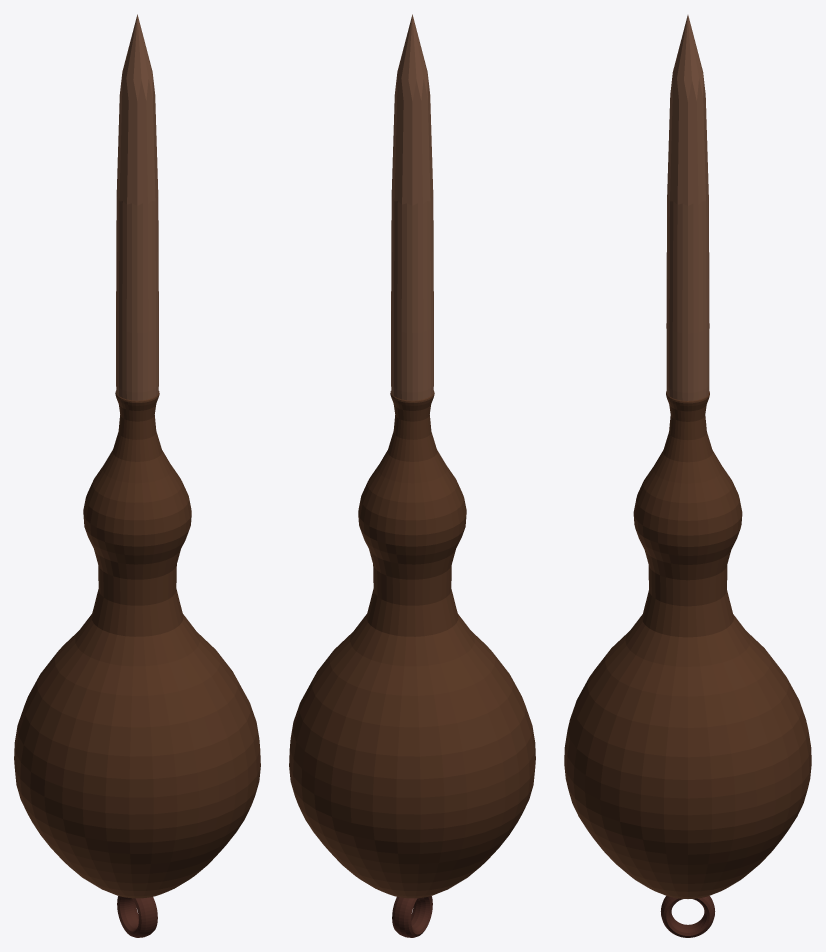
File: Wand 601.glb
The picture shows the model from 3 angles, left to right: view 1: azimuth 30°, elevation 25°; view 2: azimuth 150°, elevation 25°; view 3: azimuth 270°, elevation 25°; orthographic projection.
Parts seen in each view (by area): view 1: GeneratedWand; view 2: GeneratedWand; view 3: GeneratedWand.
Boxes of the visible parts, x1,y1,x2,y2 form: GeneratedWand: (14,14,260,937); GeneratedWand: (289,14,535,937); GeneratedWand: (564,15,811,937).
Size of the model in its own units: 0.123 by 0.5053 by 0.123.
